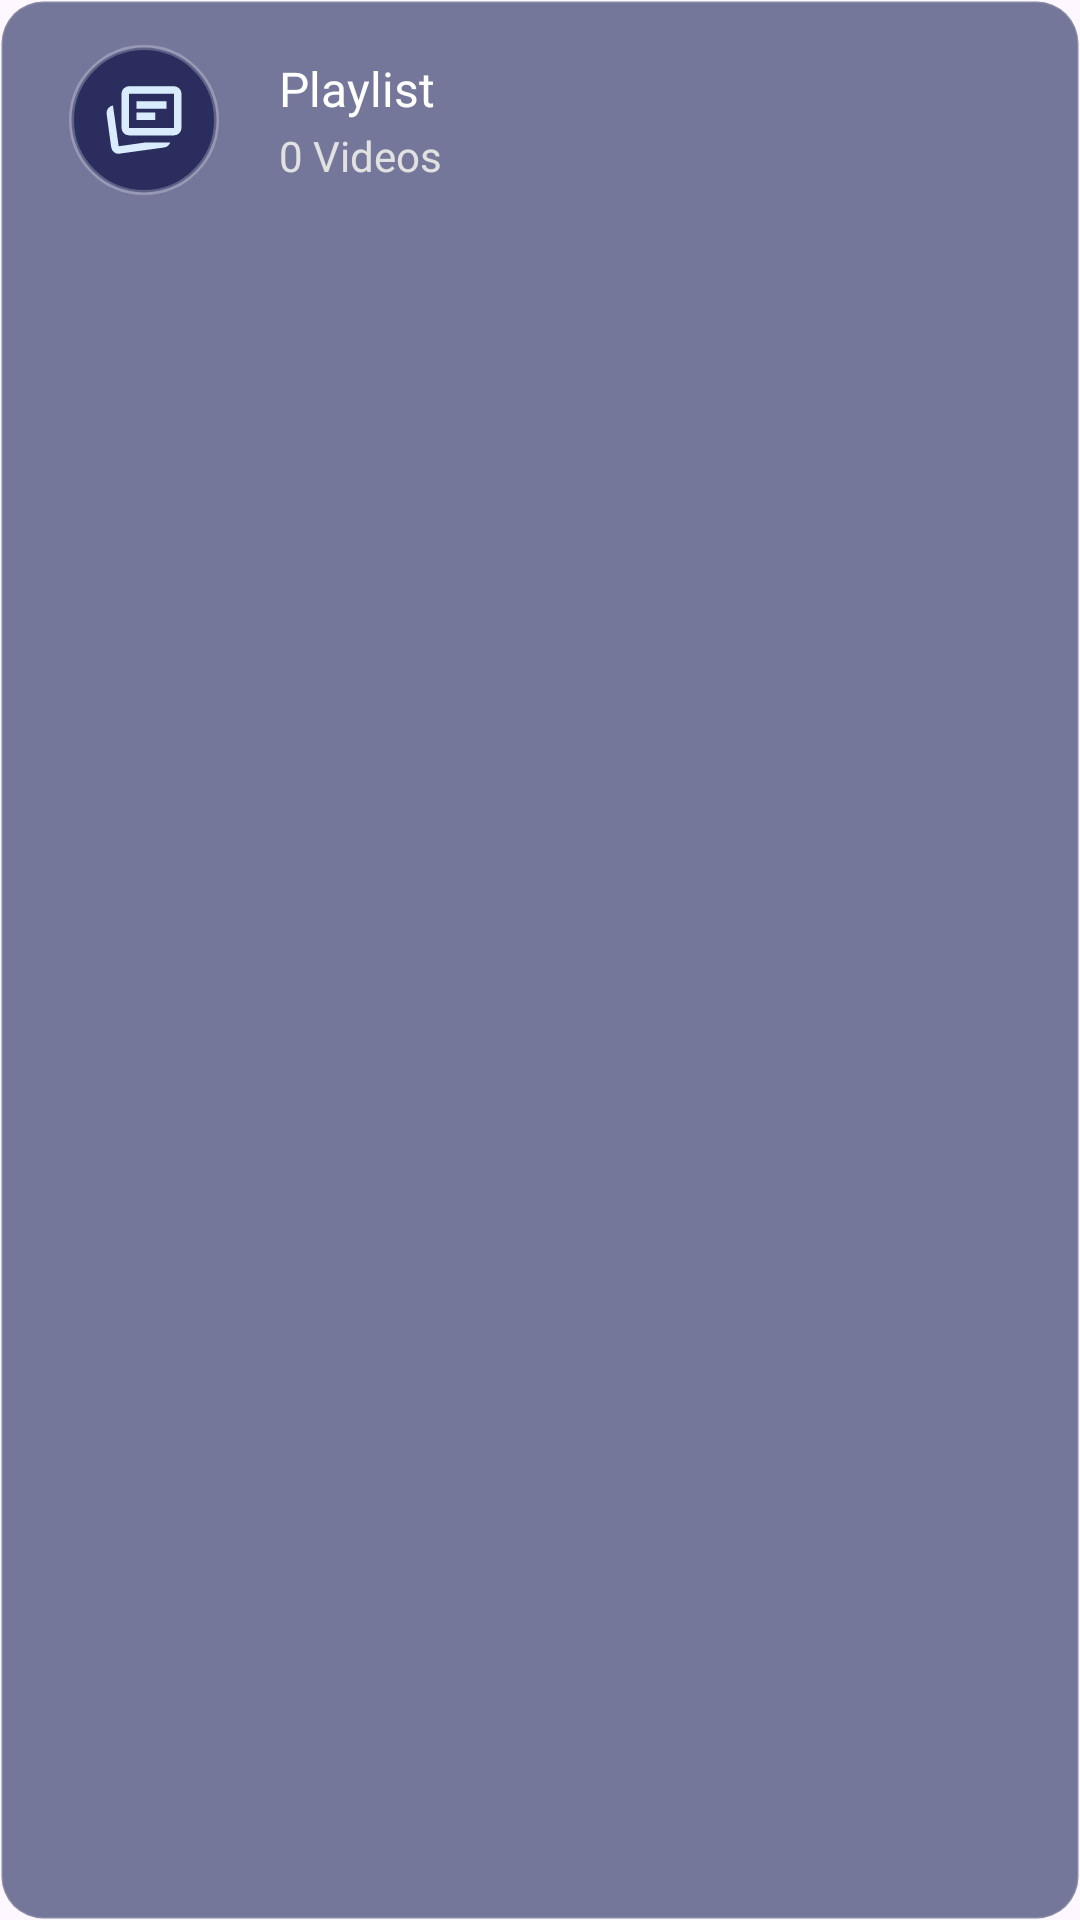

Named icons in this screenshot (1080px×1920px) and their bounding boxes, (x1, y1, x2, y2):
cards stack: (69, 45, 219, 195)
